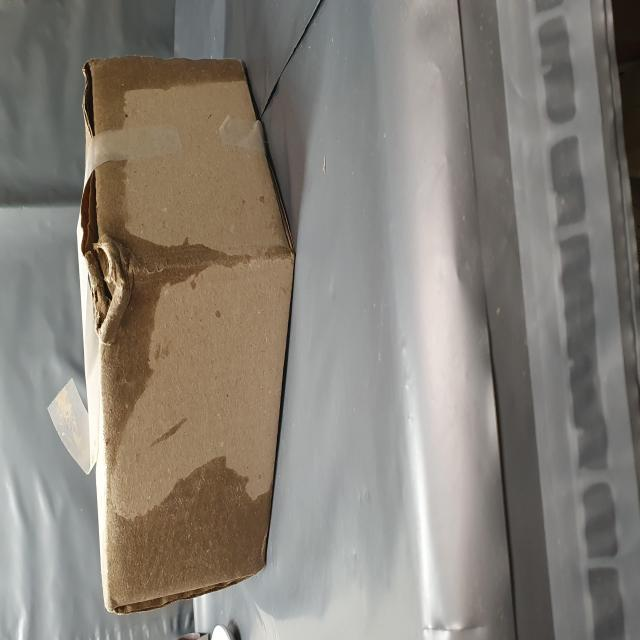wet: (17, 158, 332, 526)
